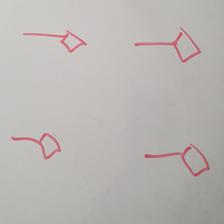control: (134, 26, 202, 63), (143, 144, 209, 176), (22, 29, 87, 52), (11, 133, 60, 160)
